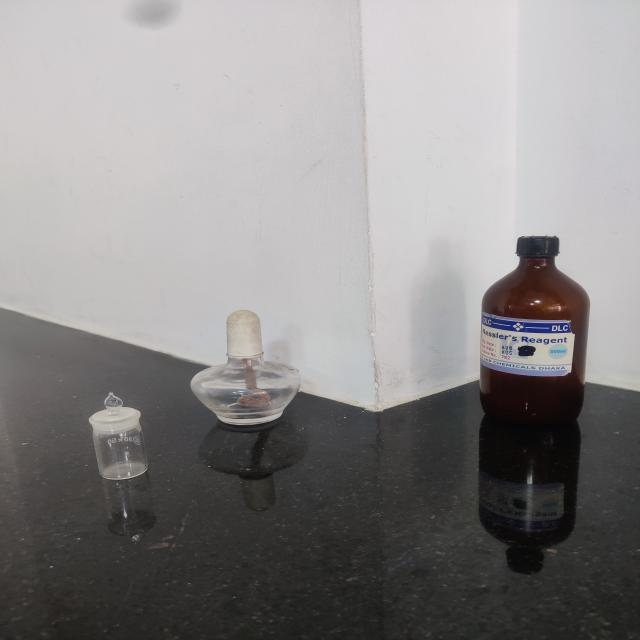Nessler_Reagent_Bottle: (463, 226, 604, 438)
Spirit_Lamp: (180, 304, 319, 437)
Weighing_Bottle: (77, 387, 163, 488)
